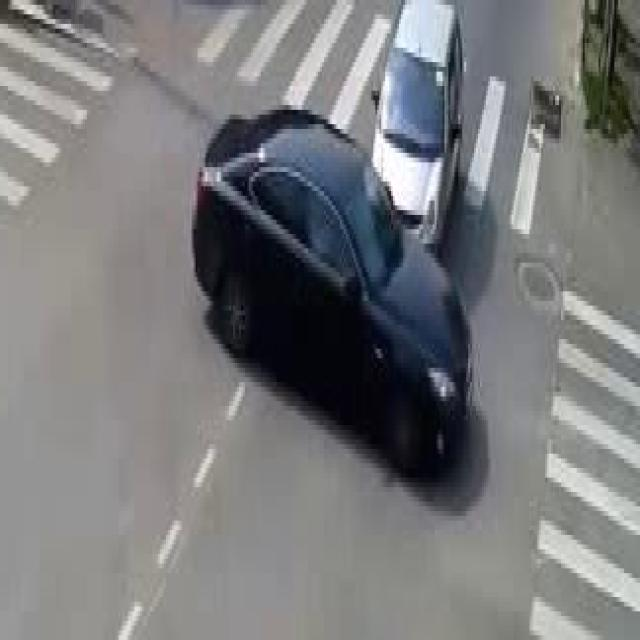accident: (189, 0, 479, 496)
